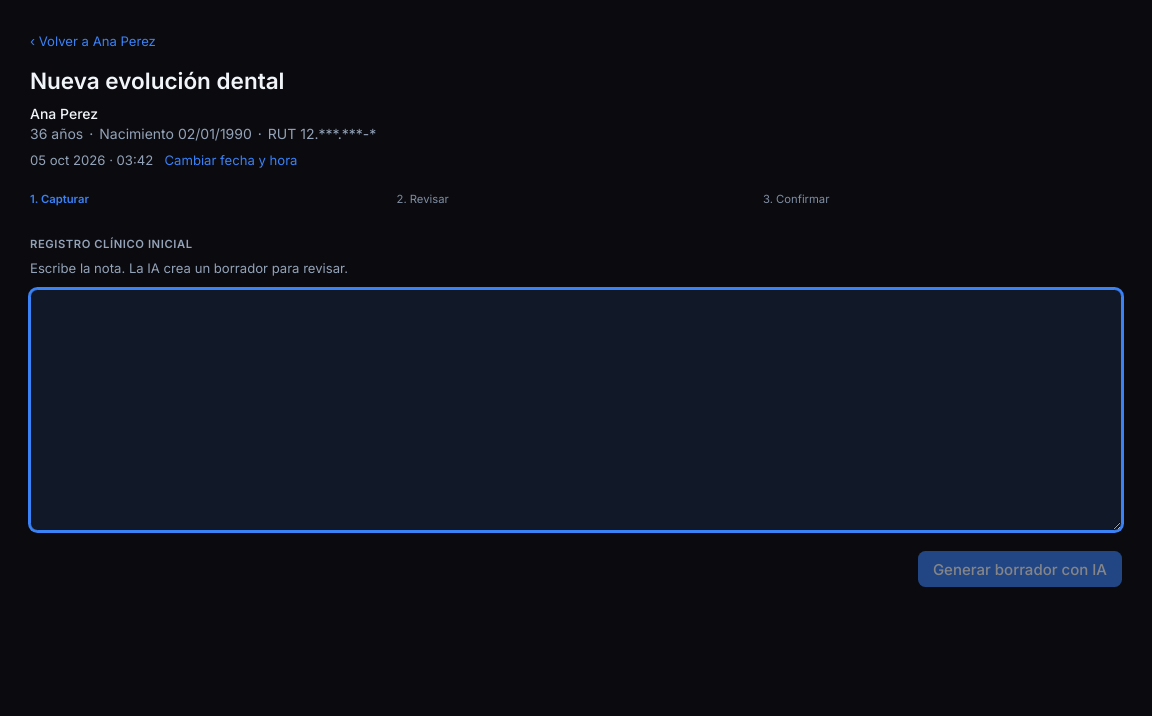
NewEvolution generation states › keeps the note and exposes recovery actions after a technical failure
Expected: the heading "Nueva evolución dental" is shown, [30,67,284,94]
Type "Paciente refiere sensibilidad al frío." into the text box named "Nota clínica" at (576, 410), box [30,289,1122,531]
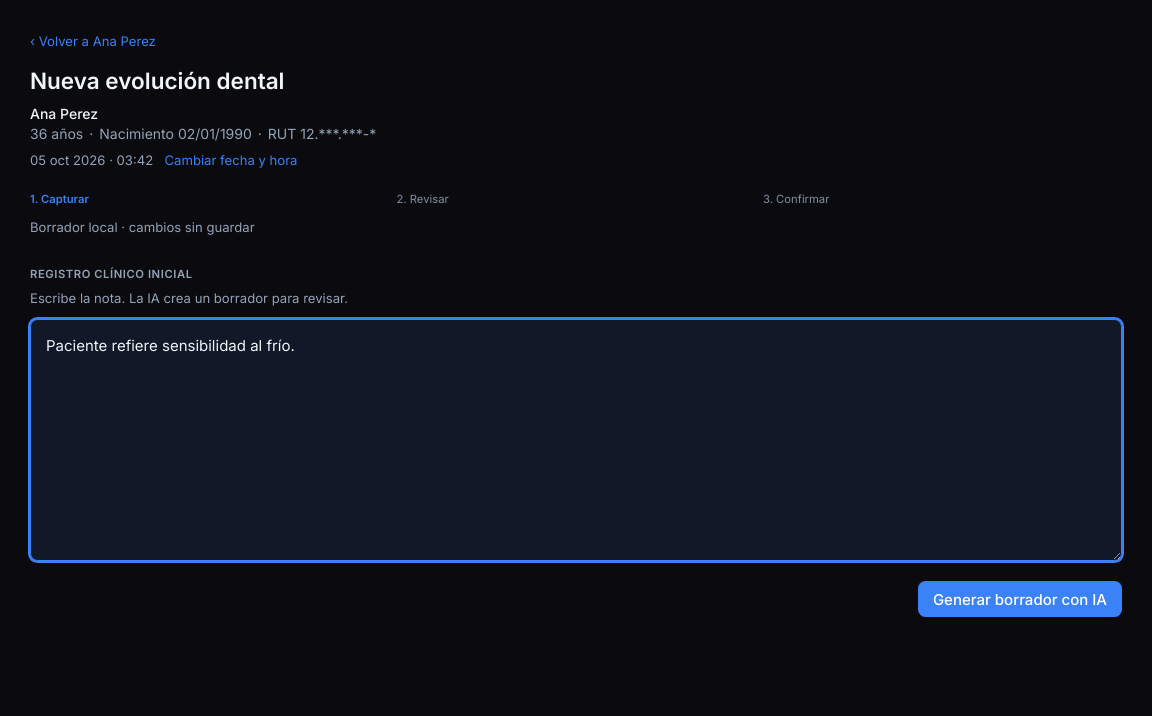
Click the button "Generar borrador con IA" at (1020, 599), box [918,581,1122,617]
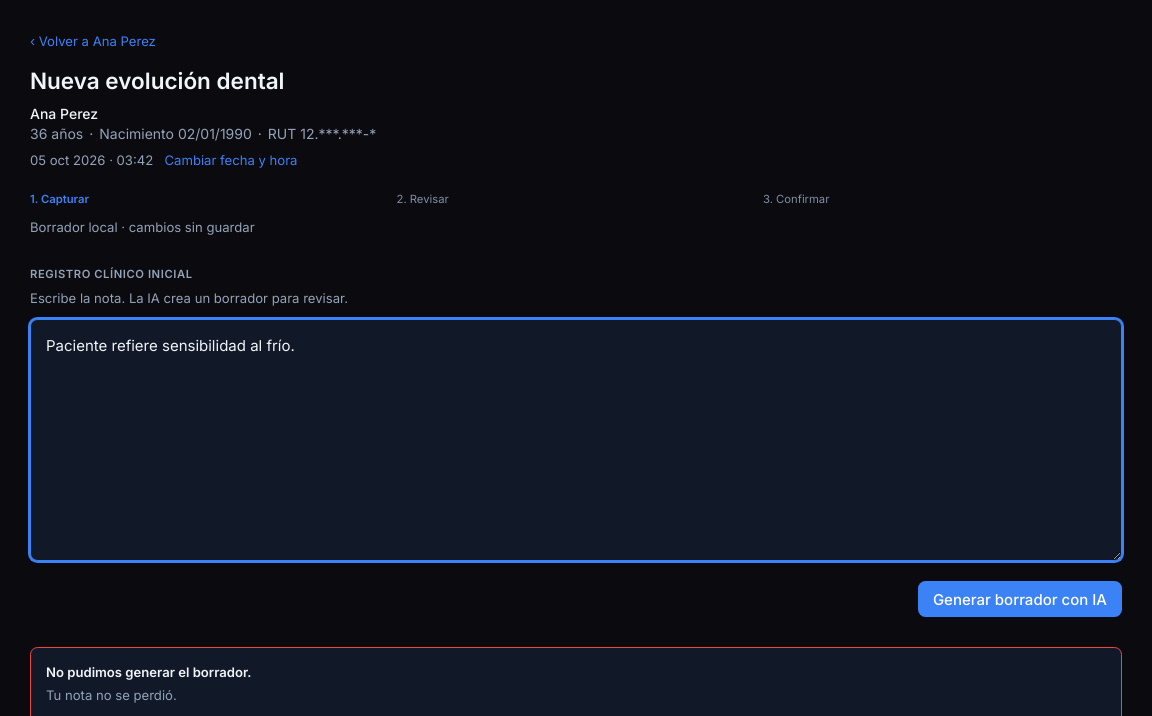
Now the heading "No pudimos generar el borrador." is shown, box [46,664,252,680]
Now the text "Tu nota no se perdió." is shown, box [46,687,177,703]
